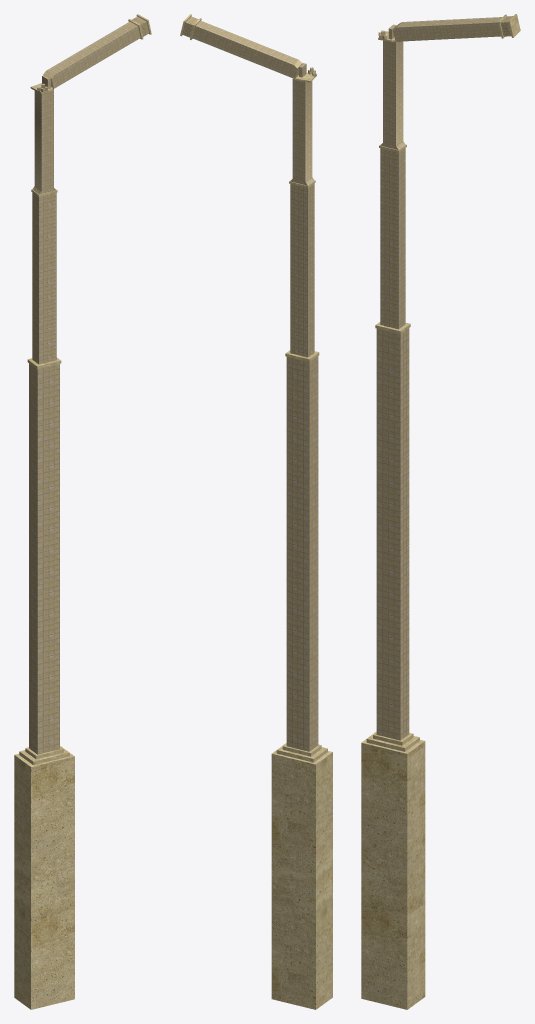
The model's file is bridge_structure_pillar_climb.dae.
3 views of the same model, side by side, from view 1: azimuth 30°, elevation 25°; view 2: azimuth 150°, elevation 25°; view 3: azimuth 330°, elevation 25° (orthographic). The views are drawn at different scales.
Visible parts, largest first — view 1: bridge_structure_pillar_climb; view 2: bridge_structure_pillar_climb; view 3: bridge_structure_pillar_climb.
Part boxes in pixels (<box>): bridge_structure_pillar_climb: <box>14,14,151,1009</box>; bridge_structure_pillar_climb: <box>180,14,332,1009</box>; bridge_structure_pillar_climb: <box>361,14,520,1009</box>.
Bounding box in the file's own units: 43.39 × 11.79 × 297.
Materials: 3 (3 with a texture image).
